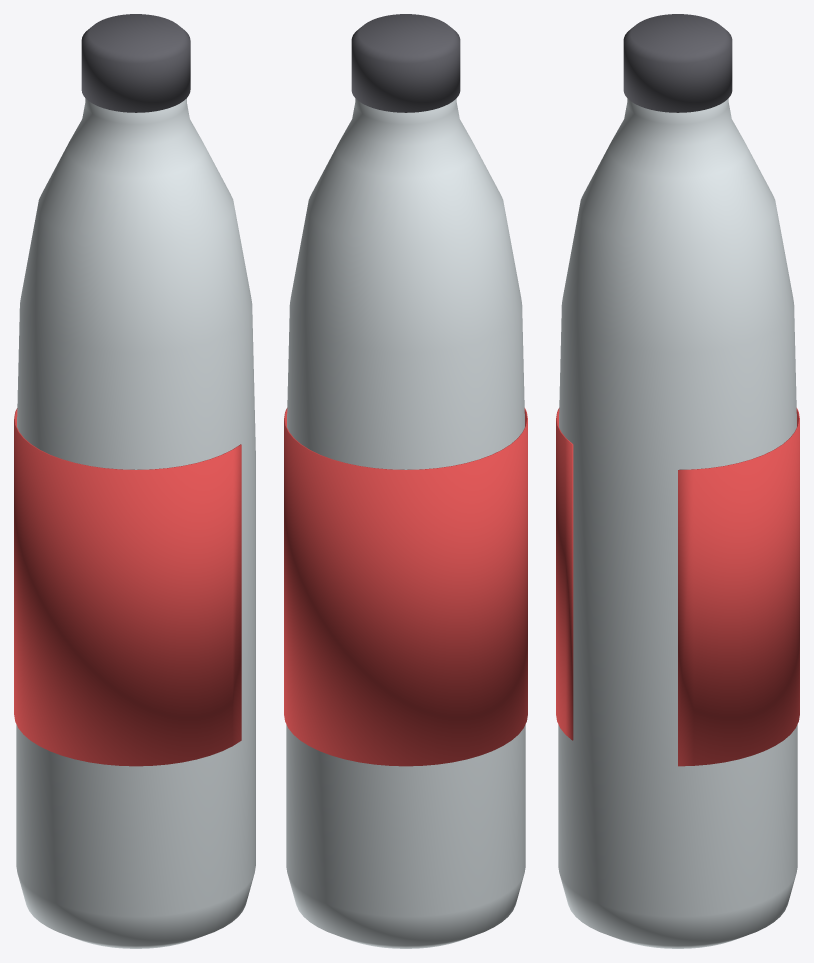
The model's file is bottle_soda.glb.
3 views of the same model, side by side, from view 1: azimuth 30°, elevation 25°; view 2: azimuth 150°, elevation 25°; view 3: azimuth 270°, elevation 25° (orthographic).
Visible parts, largest first — view 1: Glass, Label, Cap; view 2: Glass, Label, Cap; view 3: Glass, Label, Cap.
Part boxes in pixels (x1,y1,x2,y2): Glass: (16, 98, 255, 948); Label: (14, 408, 241, 766); Cap: (81, 14, 190, 112); Glass: (286, 98, 525, 948); Label: (284, 408, 527, 766); Cap: (351, 14, 460, 112); Glass: (558, 98, 797, 948); Label: (556, 408, 799, 766); Cap: (623, 14, 732, 112).
Bounding box in the file's own units: 0.0672 × 0.267 × 0.0672.
